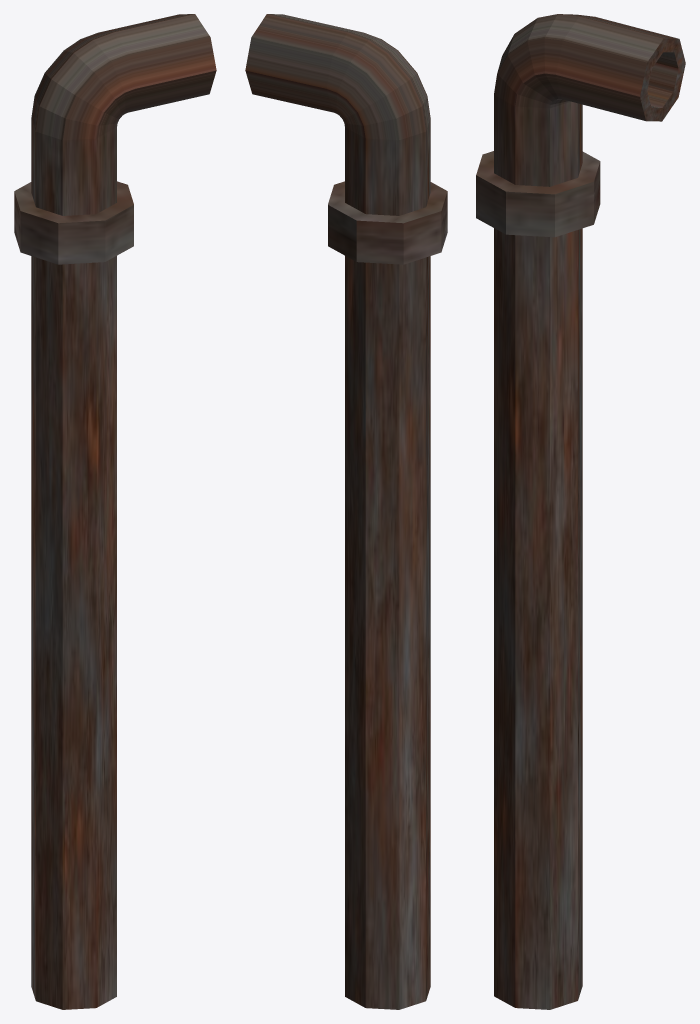
The model's file is tubo.fbx.
3 renders of one model, left to right at view 1: azimuth 30°, elevation 25°; view 2: azimuth 150°, elevation 25°; view 3: azimuth 330°, elevation 25°, orthographic. The views are drawn at different scales.
Parts seen in each view (by area): view 1: Tubo, cosita; view 2: Tubo, cosita; view 3: Tubo, cosita.
Part boxes in pixels (left/top/right/bottom): Tubo: left=31, top=14, right=216, bottom=1009; cosita: left=14, top=181, right=133, bottom=264; Tubo: left=245, top=14, right=430, bottom=1009; cosita: left=328, top=181, right=447, bottom=264; Tubo: left=494, top=14, right=685, bottom=1009; cosita: left=476, top=151, right=600, bottom=237.
Size of the model in its own units: 22.76 by 118 by 14.
2 materials, 2 textured.
